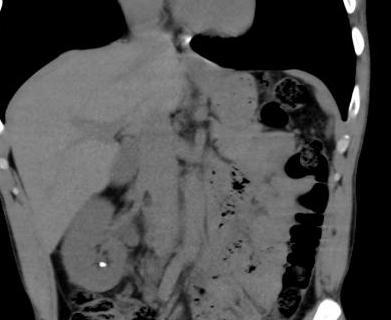Tas_Var: (100, 260, 106, 270)
